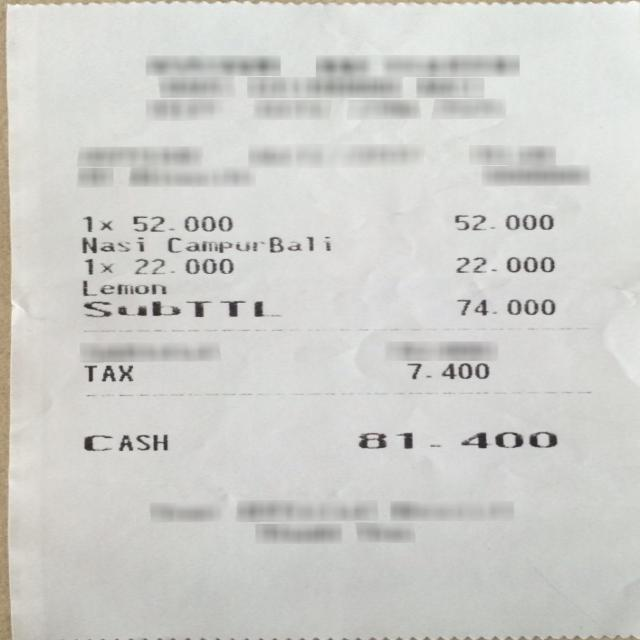text: (357, 430, 556, 448), (81, 300, 277, 316), (164, 236, 328, 253), (454, 213, 553, 231), (455, 256, 555, 273), (132, 257, 231, 274), (456, 298, 554, 314), (131, 216, 231, 231), (82, 280, 165, 296), (84, 433, 167, 449), (406, 362, 487, 378), (81, 236, 142, 252), (84, 364, 132, 380), (83, 258, 113, 273), (82, 216, 110, 231)
